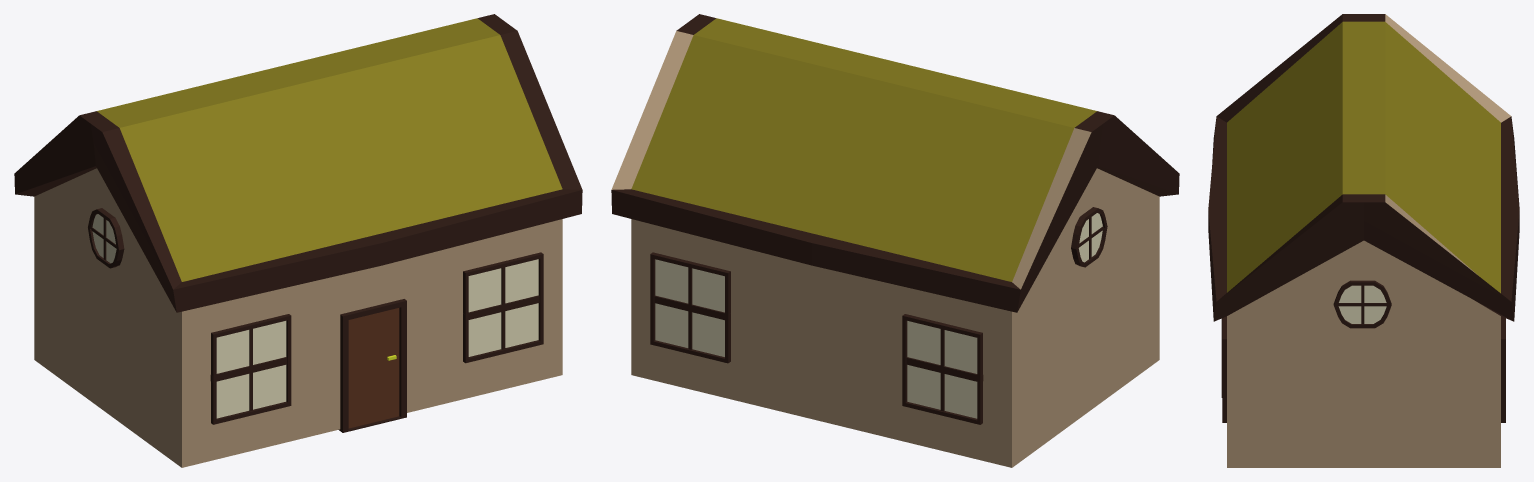
3 views of the same model, side by side, from view 1: azimuth 30°, elevation 25°; view 2: azimuth 150°, elevation 25°; view 3: azimuth 270°, elevation 25° (orthographic). The views are drawn at different scales.
Parts seen in each view (by area): view 1: Ev1; view 2: Ev1; view 3: Ev1.
Boxes of the visible parts, x1,y1,x2,y2 form: Ev1: (14, 14, 582, 467); Ev1: (611, 14, 1179, 467); Ev1: (1208, 14, 1519, 467).
Size of the model in its own units: 1403 by 956 by 980.
